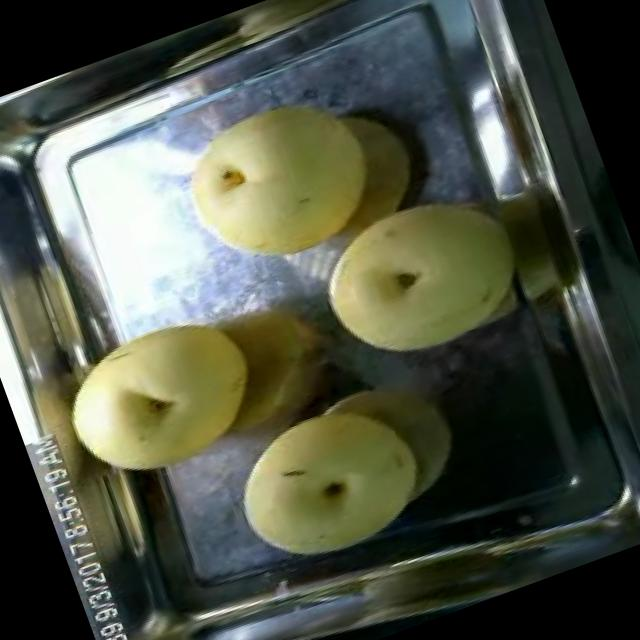Fruit: (154, 56, 436, 300), (196, 344, 464, 595), (34, 280, 294, 516), (292, 164, 550, 398)
